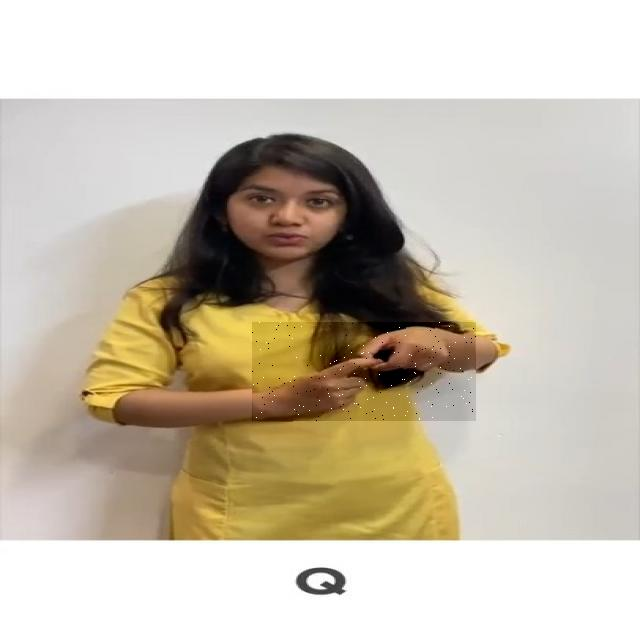Q: (252, 322, 476, 421)
